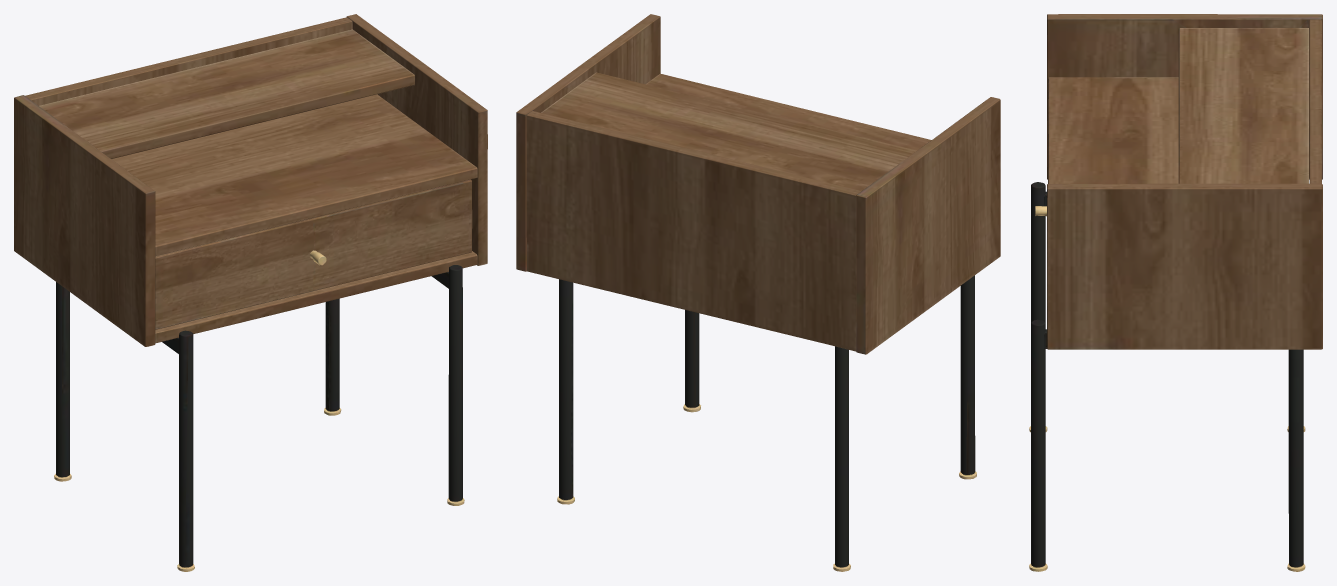
The picture shows the model from 3 angles, left to right: view 1: azimuth 30°, elevation 25°; view 2: azimuth 150°, elevation 25°; view 3: azimuth 270°, elevation 25°; orthographic projection. The views are drawn at different scales.
Parts seen in each view (by area): view 1: ASY_ART_80593597_S01_NV01, ASY_LPT01_80593597_S01_NV01; view 2: ASY_ART_80593597_S01_NV01; view 3: ASY_ART_80593597_S01_NV01.
Part boxes in pixels (x1,y1,x2,y2): ASY_ART_80593597_S01_NV01: (14, 14, 487, 571); ASY_LPT01_80593597_S01_NV01: (155, 179, 472, 329); ASY_ART_80593597_S01_NV01: (516, 14, 1000, 571); ASY_ART_80593597_S01_NV01: (1029, 14, 1322, 571).
Bounding box in the file's own units: 0.54 × 0.5754 × 0.3834.
Materials: 2 (2 with a texture image).
